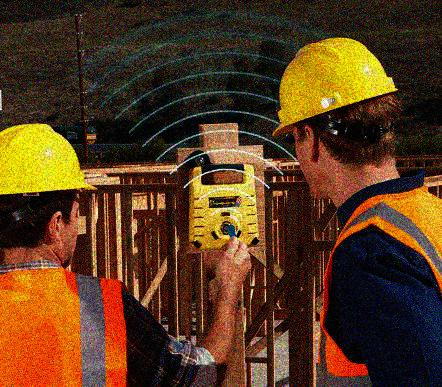helmet: (272, 36, 401, 198), (1, 121, 99, 270)
